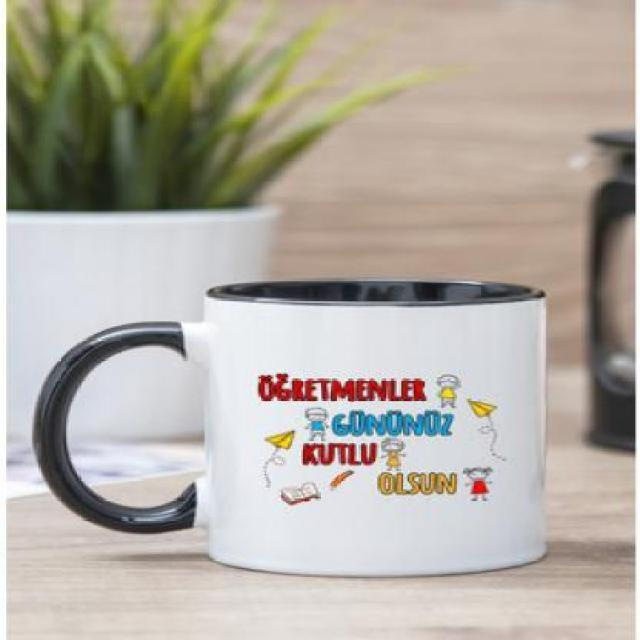taza: (31, 279, 548, 578)
